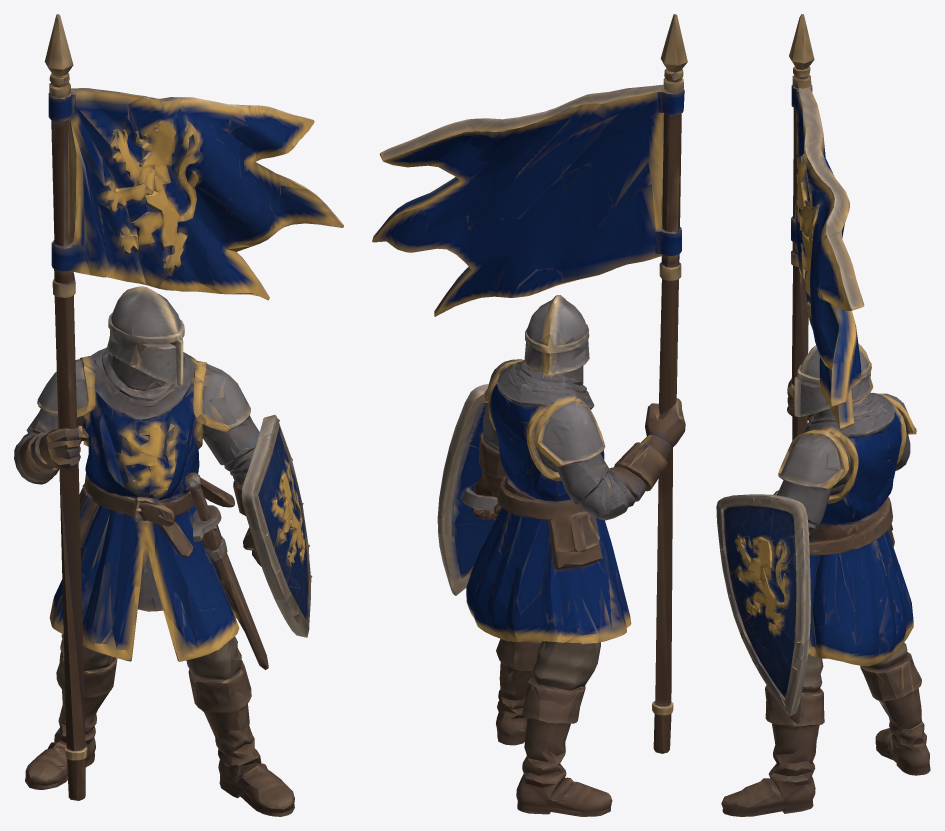
File: soldier.glb
The picture shows the model from 3 angles, left to right: view 1: azimuth 30°, elevation 25°; view 2: azimuth 150°, elevation 25°; view 3: azimuth 270°, elevation 25°; orthographic projection. The views are drawn at different scales.
Visible parts, largest first — view 1: output_unwrapped; view 2: output_unwrapped; view 3: output_unwrapped.
Boxes of the visible parts, x1,y1,x2,y2 form: output_unwrapped: [14, 14, 343, 816]; output_unwrapped: [372, 14, 687, 816]; output_unwrapped: [716, 14, 930, 816].
Size of the model in its own units: 0.7682 by 1.9 by 0.5137.
1 material, 1 textured.
